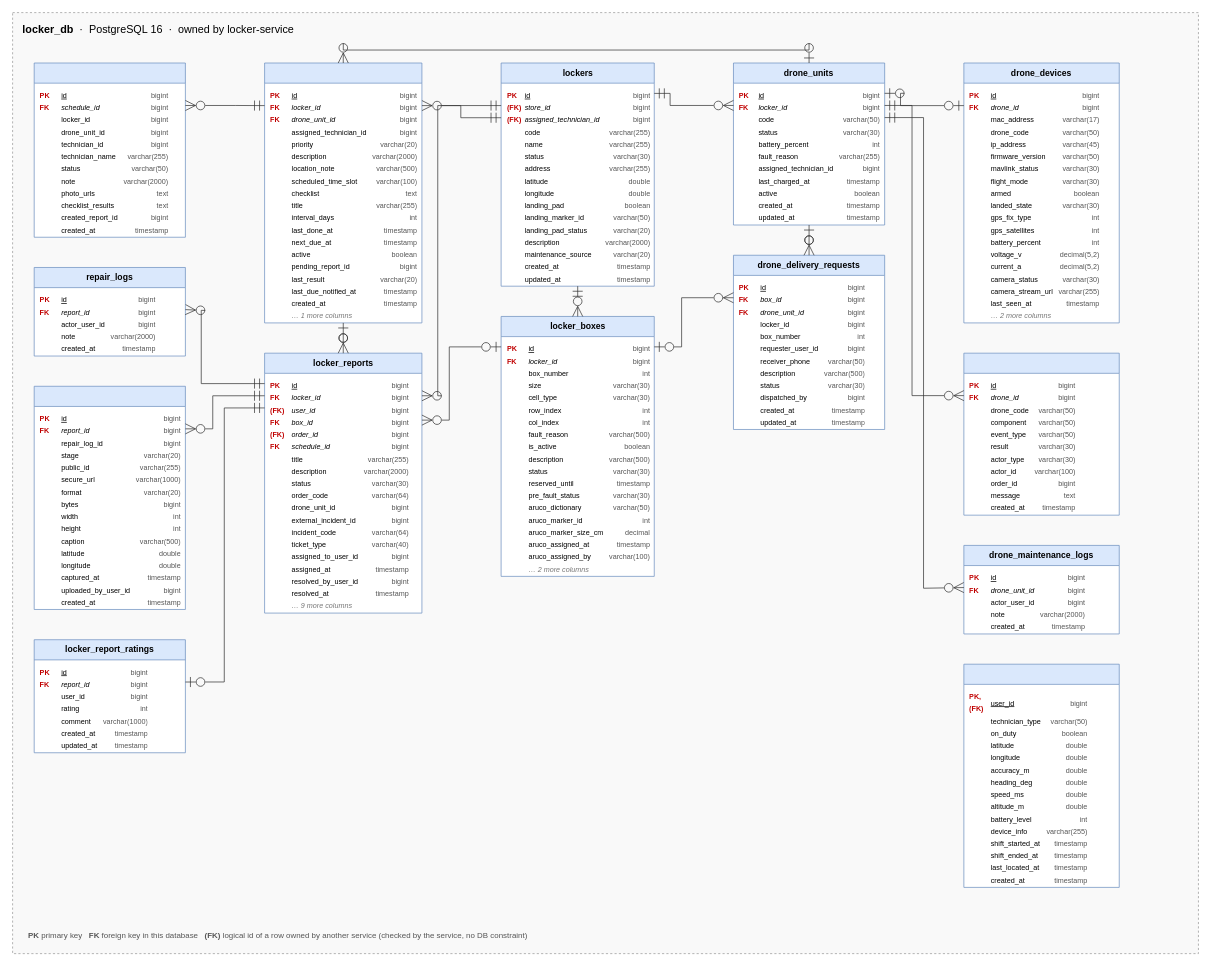
The diagram is 1211 pixels wide and 966 high, and some of its shapes have lost their labels. Here are the shapes that lost their labels. From the top down, the box of each, then its label:
(33, 62, 185, 237): maintenance_inspection_logs
(264, 62, 422, 323): maintenance_schedules
(963, 352, 1119, 515): drone_iot_logs
(33, 386, 185, 609): report_attachments
(963, 663, 1119, 887): technician_presences
